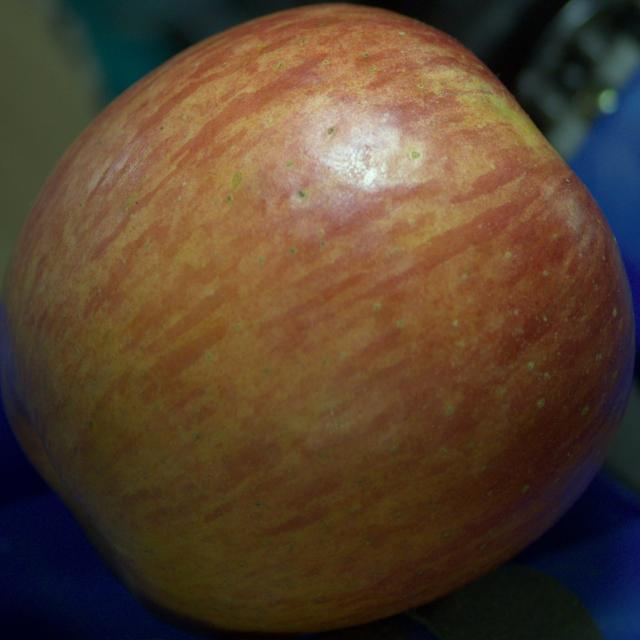apple: (0, 5, 634, 634)
